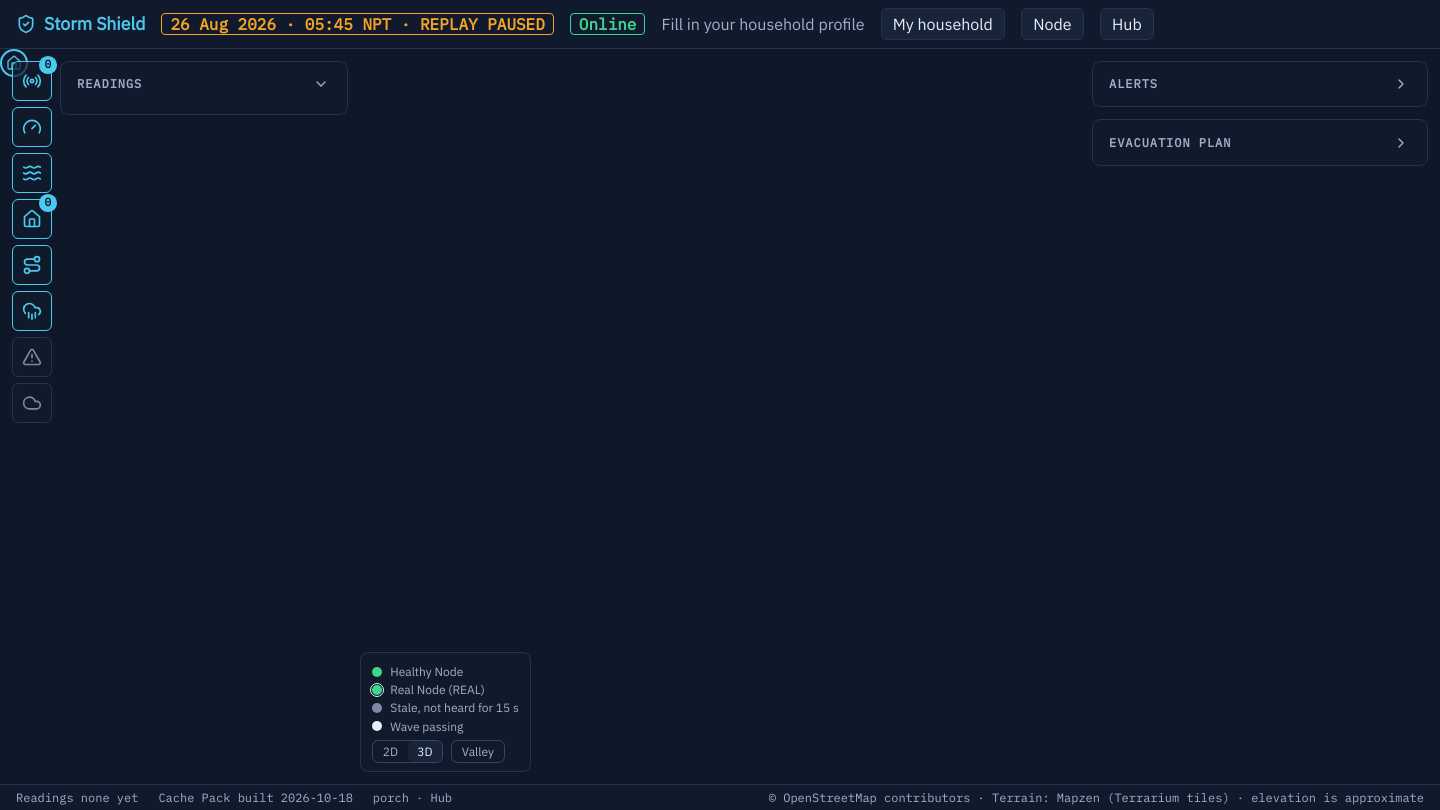
it: Weather layers on the map › labels Cloud cover with its units, the recorded tag, the coarse note and the credit
Click the button named "Weather". click: (32, 403)
box: [12, 383, 52, 423]
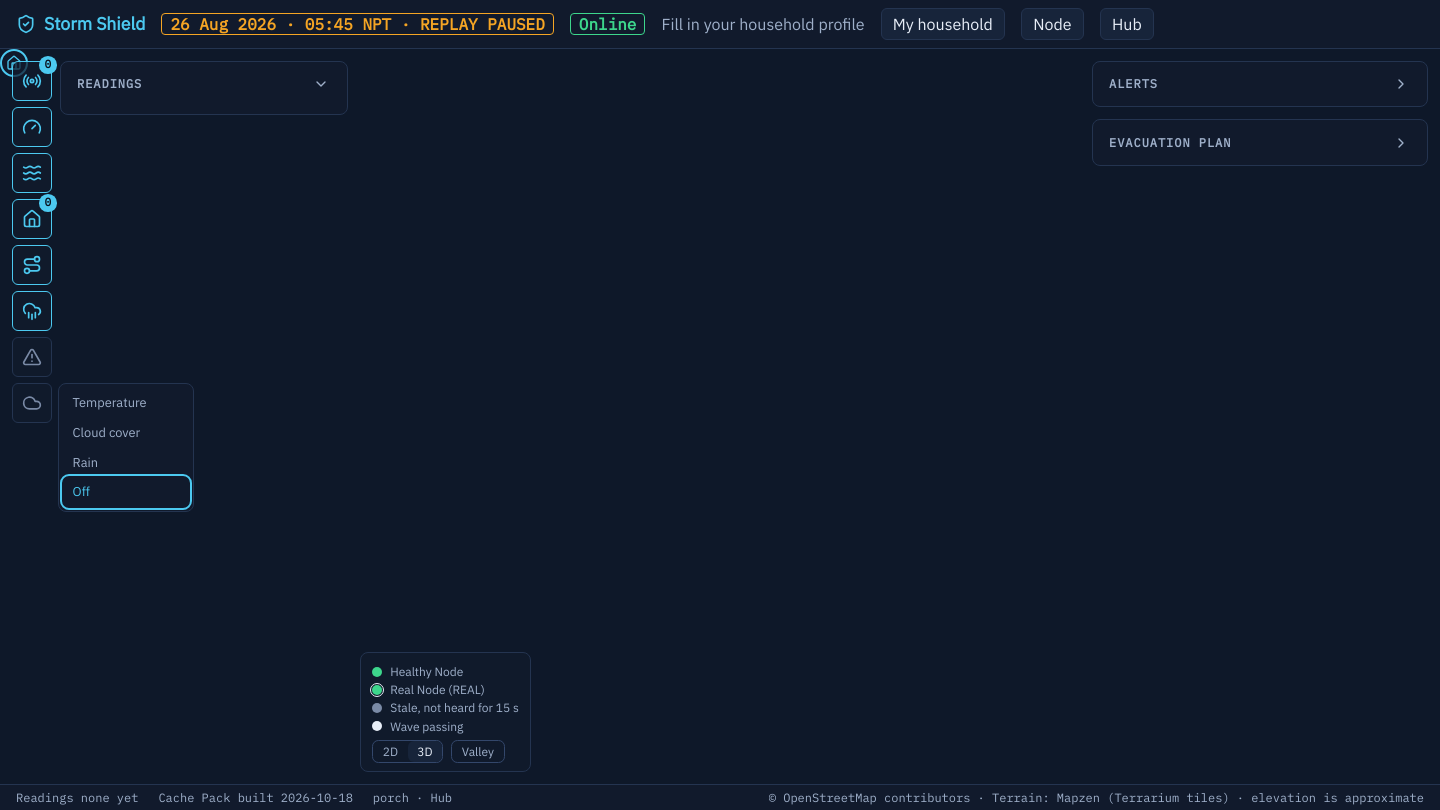
Click the radio button labelled "Cloud cover". click: (126, 432)
box: [63, 417, 189, 447]
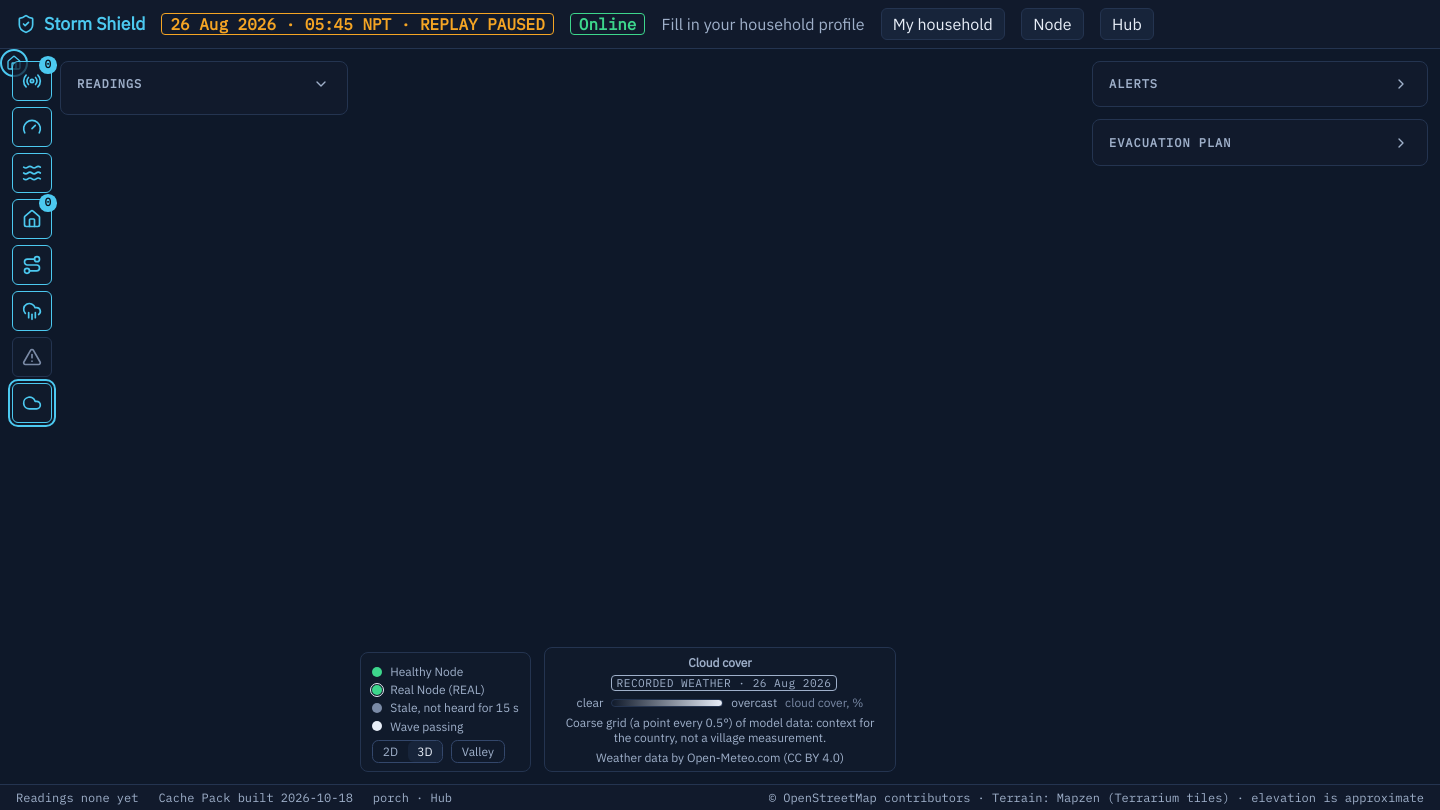
Check: the text "RECORDED WEATHER · 26 Aug 2026" is shown, box [611, 675, 837, 691]
Check: the element named "Weather legend" shows "Cloud cover", box [688, 655, 752, 670]
Check: the element named "Weather legend" shows "cloud cover, %", box [544, 647, 896, 772]
